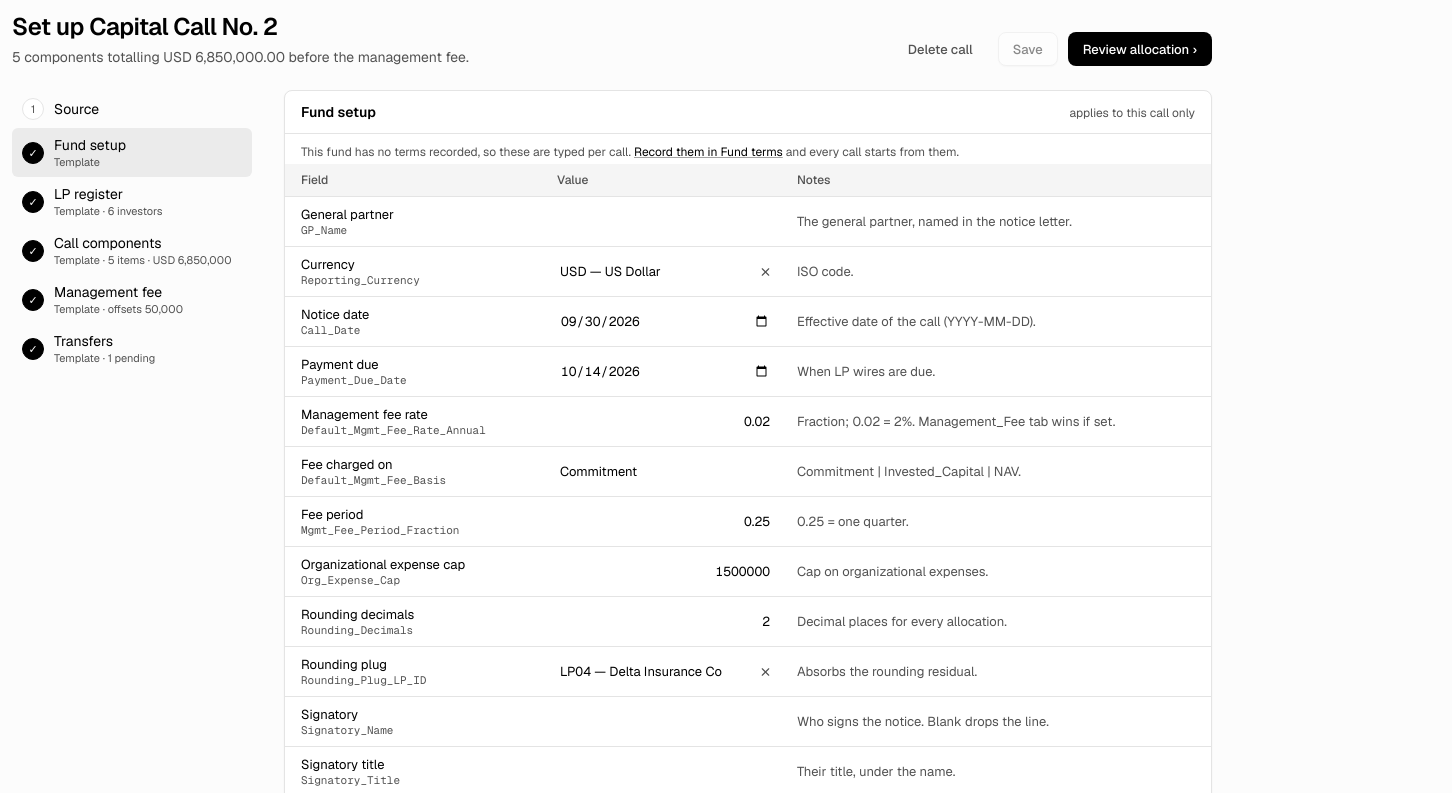
Test: the management fee, on the call › shows what each investor is charged, with the working, before review
The width and height of the screenshot is (1452, 793).
Click the text "Management fee Template · offsets 50,000" at x=118, y=300, box [54,283,183,316]
(page scrolled)
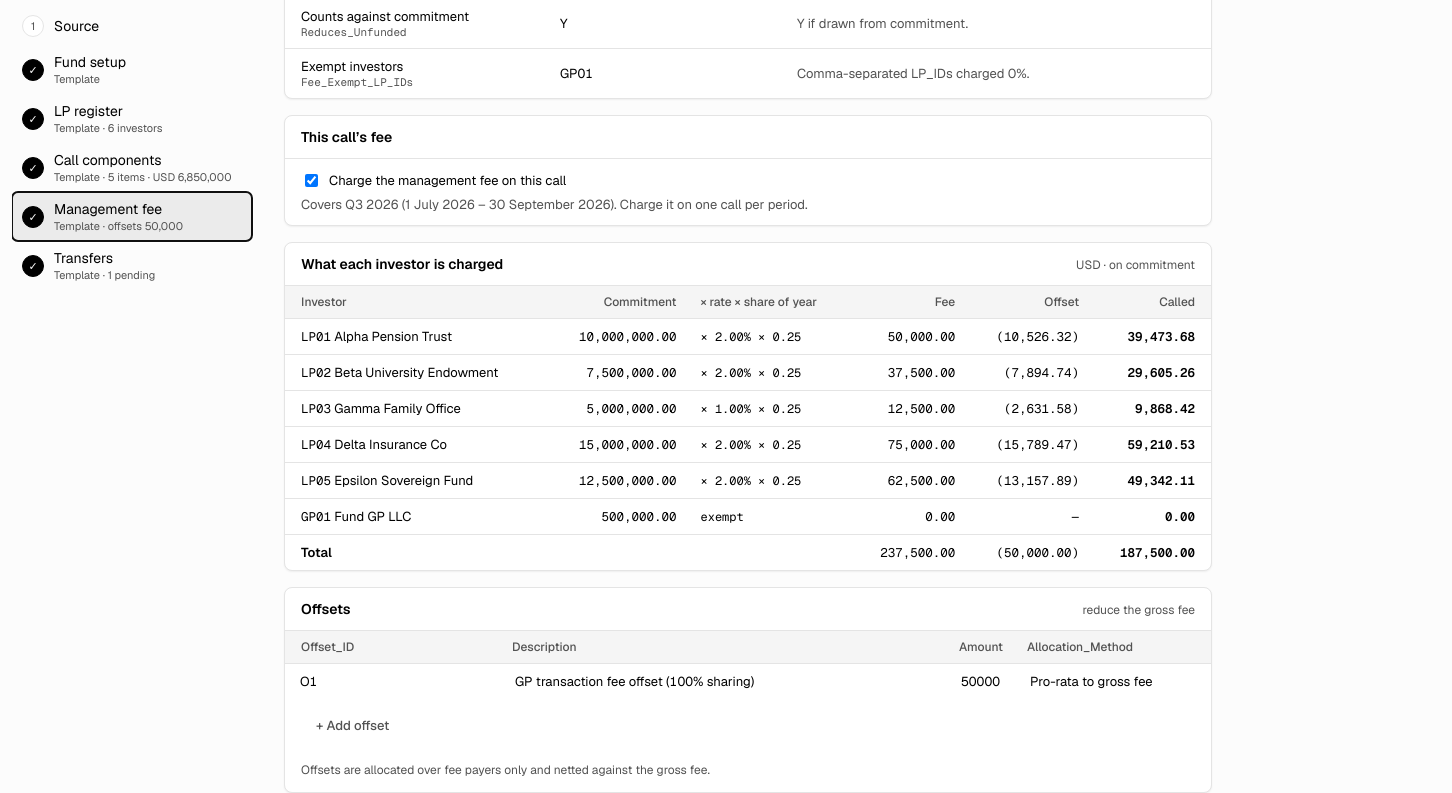
Result: the text "Gamma Family Office" shows "5,000,000.00" at [586,400,676,417]
Result: the text "Gamma Family Office" shows "× 1.00% × 0.25" at [700,400,801,416]
Result: the text "Gamma Family Office" shows "12,500.00" at [888,400,955,417]
